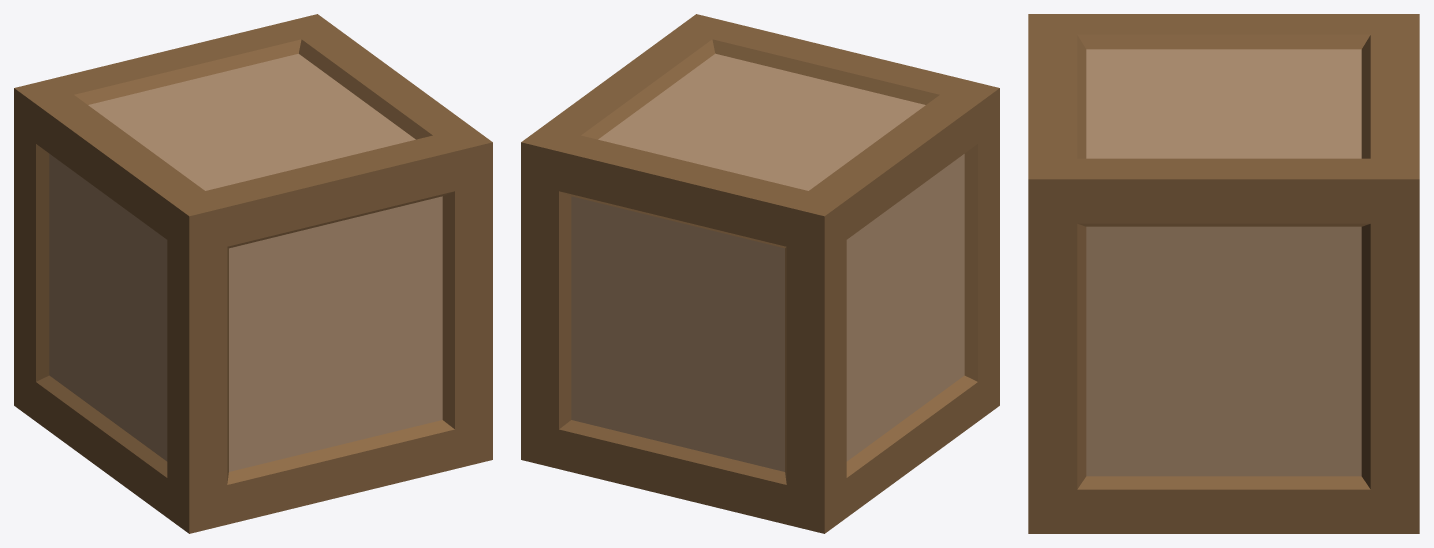
The picture shows the model from 3 angles, left to right: view 1: azimuth 30°, elevation 25°; view 2: azimuth 150°, elevation 25°; view 3: azimuth 270°, elevation 25°; orthographic projection. The views are drawn at different scales.
Parts seen in each view (by area): view 1: Cube; view 2: Cube; view 3: Cube.
Boxes of the visible parts, x1,y1,x2,y2 form: Cube: (14,14,492,533); Cube: (521,14,999,533); Cube: (1028,14,1419,533).
Bounding box in the file's own units: 200 × 200 × 200.
